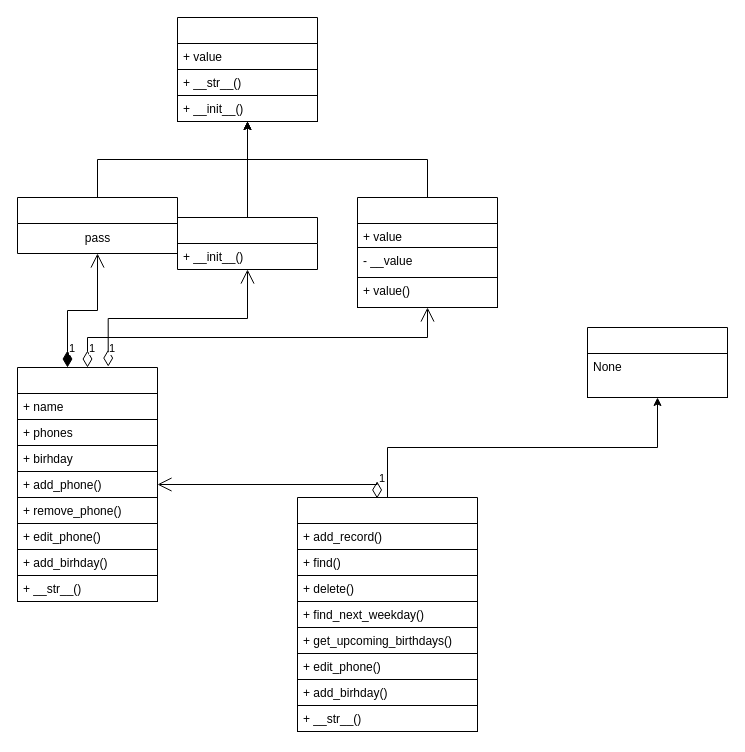
Image size: 745x752. Some labels were removed from this diagram. Each missing label, with the box of its shape:
AddressBook: (296, 496, 478, 732)
Birthday: (176, 216, 318, 270)
Field: (176, 16, 318, 122)
Name: (16, 196, 178, 254)
Phone: (356, 196, 498, 308)
Record: (16, 366, 158, 602)
UserDict: (586, 326, 728, 398)
